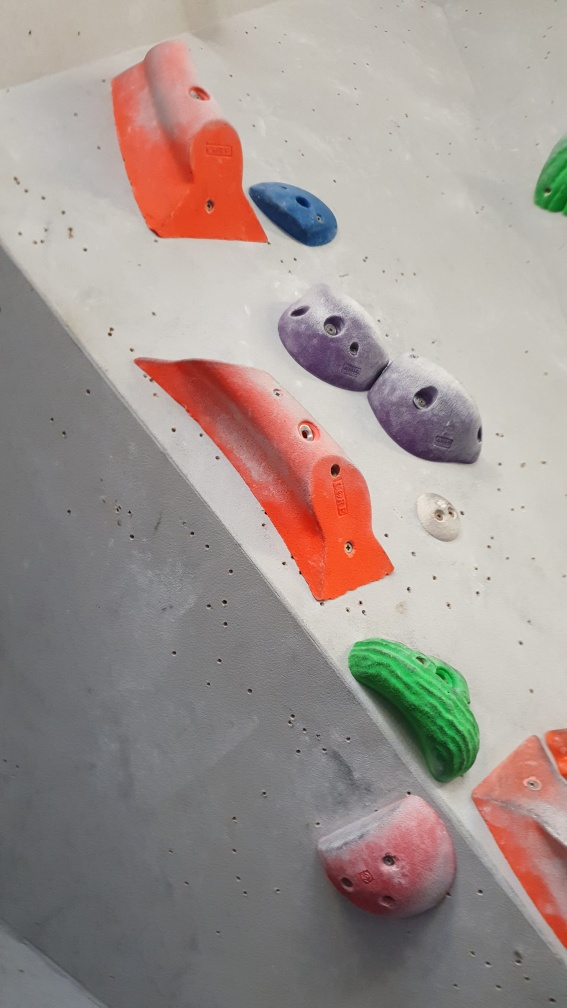Jug: (345, 634, 484, 787), (367, 353, 484, 468), (279, 281, 387, 396)
Pinch: (128, 348, 397, 604), (105, 36, 268, 248), (466, 732, 567, 956)
Sloper: (324, 801, 460, 918)
